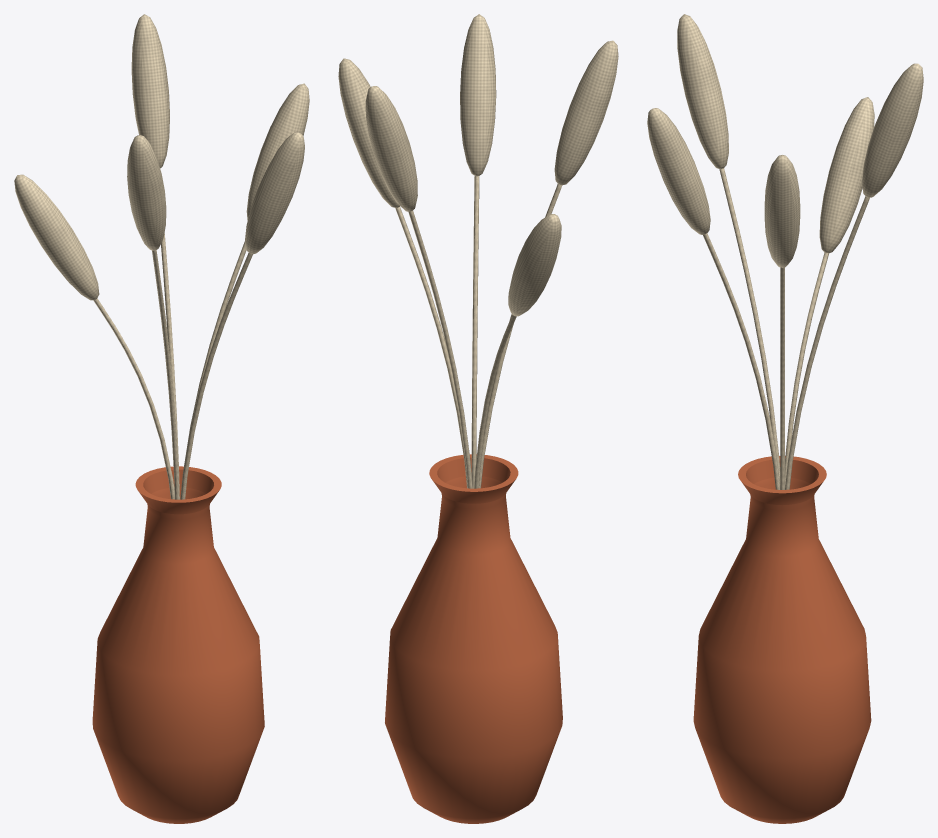
The model's file is floor_vase.glb.
3 views of the same model, side by side, from view 1: azimuth 30°, elevation 25°; view 2: azimuth 150°, elevation 25°; view 3: azimuth 270°, elevation 25° (orthographic). The views are drawn at different scales.
Parts seen in each view (by area): view 1: model; view 2: model; view 3: model.
Boxes of the visible parts, x1,y1,x2,y2 form: model: [14, 14, 309, 823]; model: [338, 14, 618, 823]; model: [647, 14, 923, 823].
Size of the model in its own units: 0.5735 by 1.6 by 0.5287.
2 materials, 2 textured.
